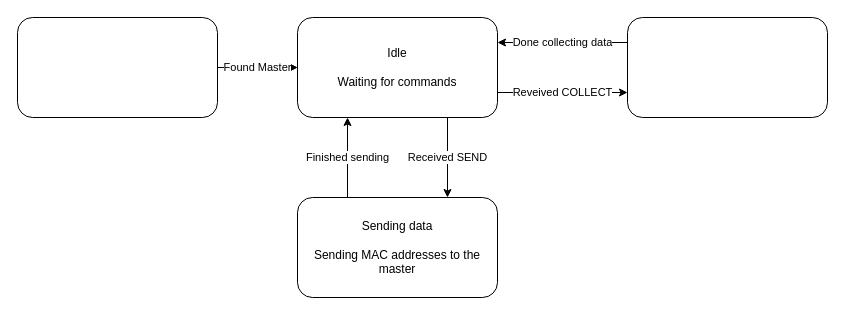
This 845x315 diagram has some shape labels left out. Each missing label, with the box of its shape:
Collecting data Scanning for MAC addresses: (626, 16, 828, 118)
Discorvery Trying to find a master: (16, 16, 218, 118)
